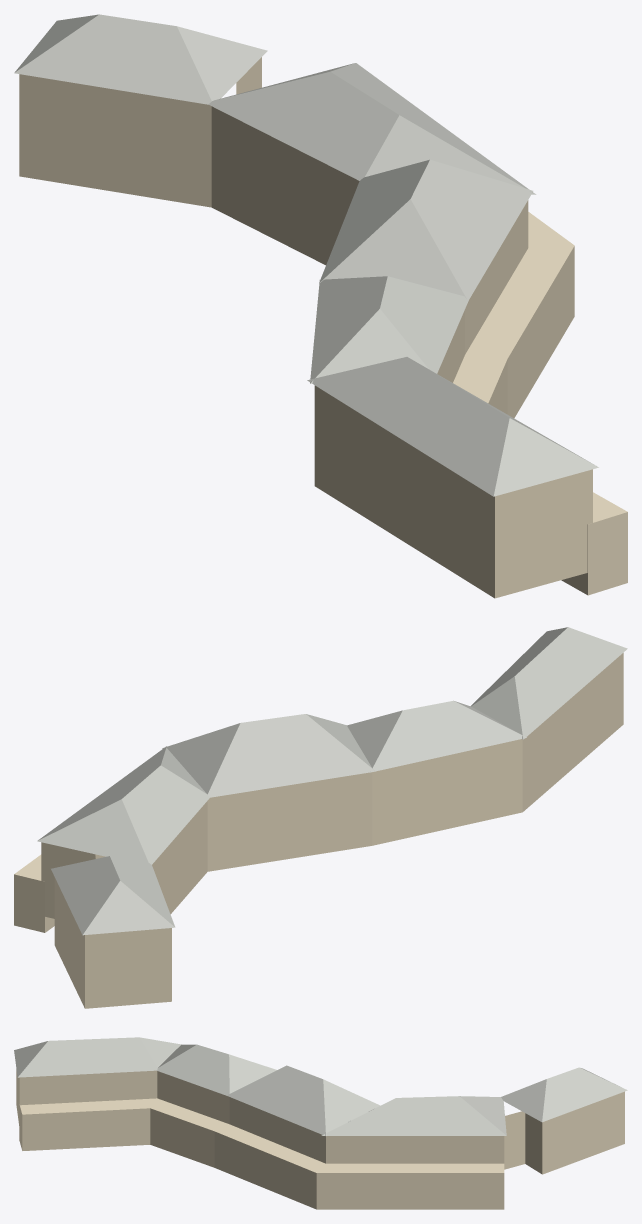
Rendered from pc_bhurban_far.glb.
The picture shows the model from 3 angles, top to bottom: view 1: azimuth 30°, elevation 25°; view 2: azimuth 150°, elevation 25°; view 3: azimuth 270°, elevation 25°; orthographic projection. The views are drawn at different scales.
Parts seen in each view (by area): view 1: m_wall_cream, m_roof_metal; view 2: m_wall_cream, m_roof_metal; view 3: m_wall_cream, m_roof_metal.
Boxes of the visible parts, x1,y1,x2,y2 form: m_wall_cream: (19,57,627,598); m_roof_metal: (14,14,598,496); m_wall_cream: (14,653,623,1008); m_roof_metal: (37,627,627,935); m_wall_cream: (16,1069,624,1209); m_roof_metal: (14,1037,627,1135).
Size of the model in its own units: 73.79 by 33 by 192.
